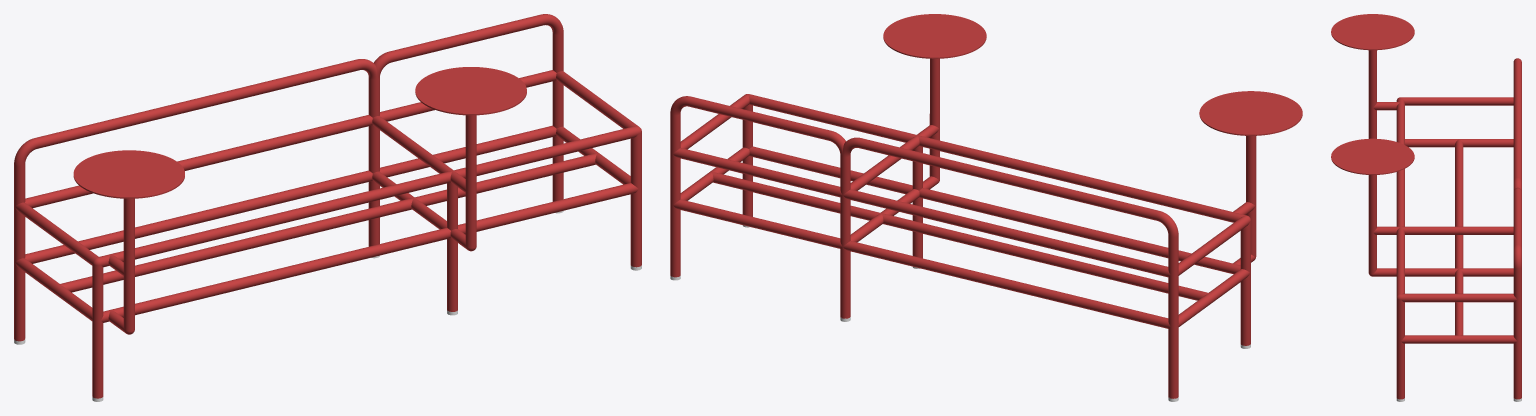
File: TheMinersBench-justStructure.glb
3 views of the same model, side by side, from view 1: azimuth 30°, elevation 25°; view 2: azimuth 150°, elevation 25°; view 3: azimuth 270°, elevation 25° (orthographic). The views are drawn at different scales.
Bounding box in the file's own units: 1.8 × 0.7 × 0.685.
